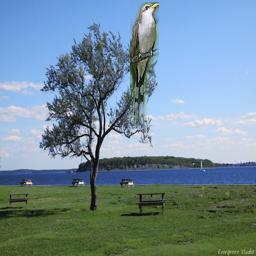Cuckoo: (131, 3, 160, 124)
